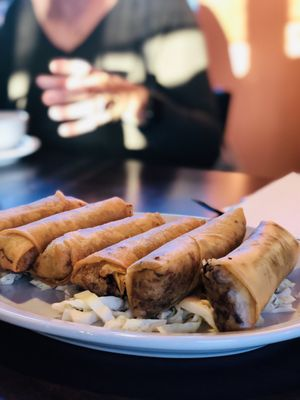pizza: (194, 0, 300, 180)
